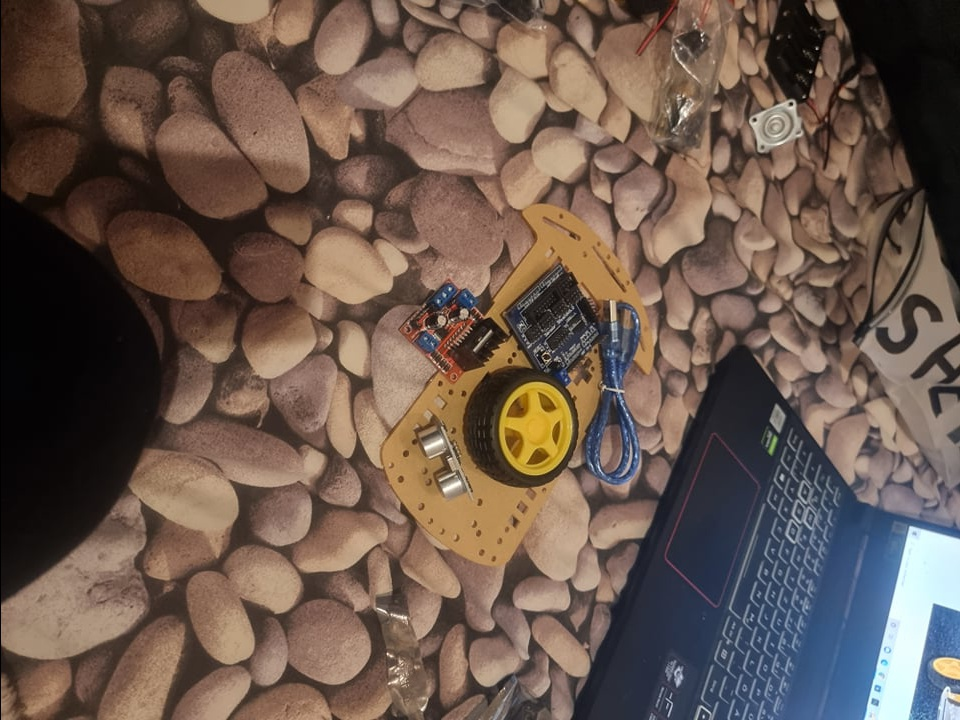5V EXPANSION: (499, 262, 604, 386)
BATTERY BOX: (761, 1, 827, 103)
MOTOR: (399, 273, 507, 382)
SENSOR: (413, 420, 474, 502)
